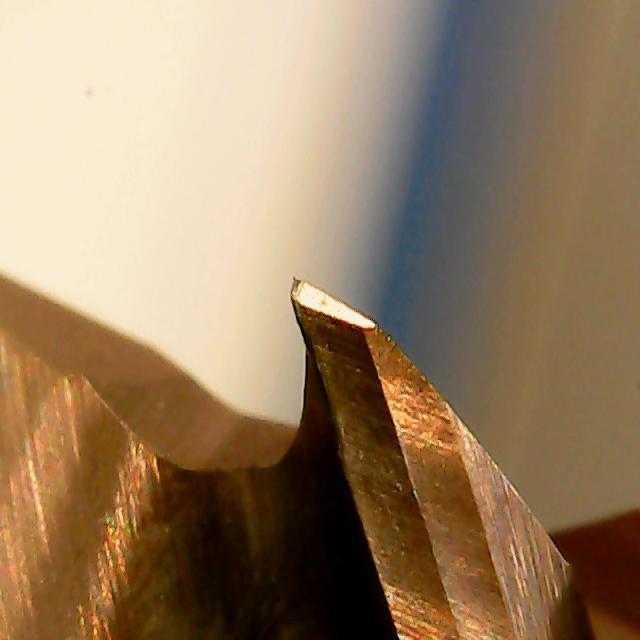Tool-wear-class-1: (274, 264, 459, 566)
